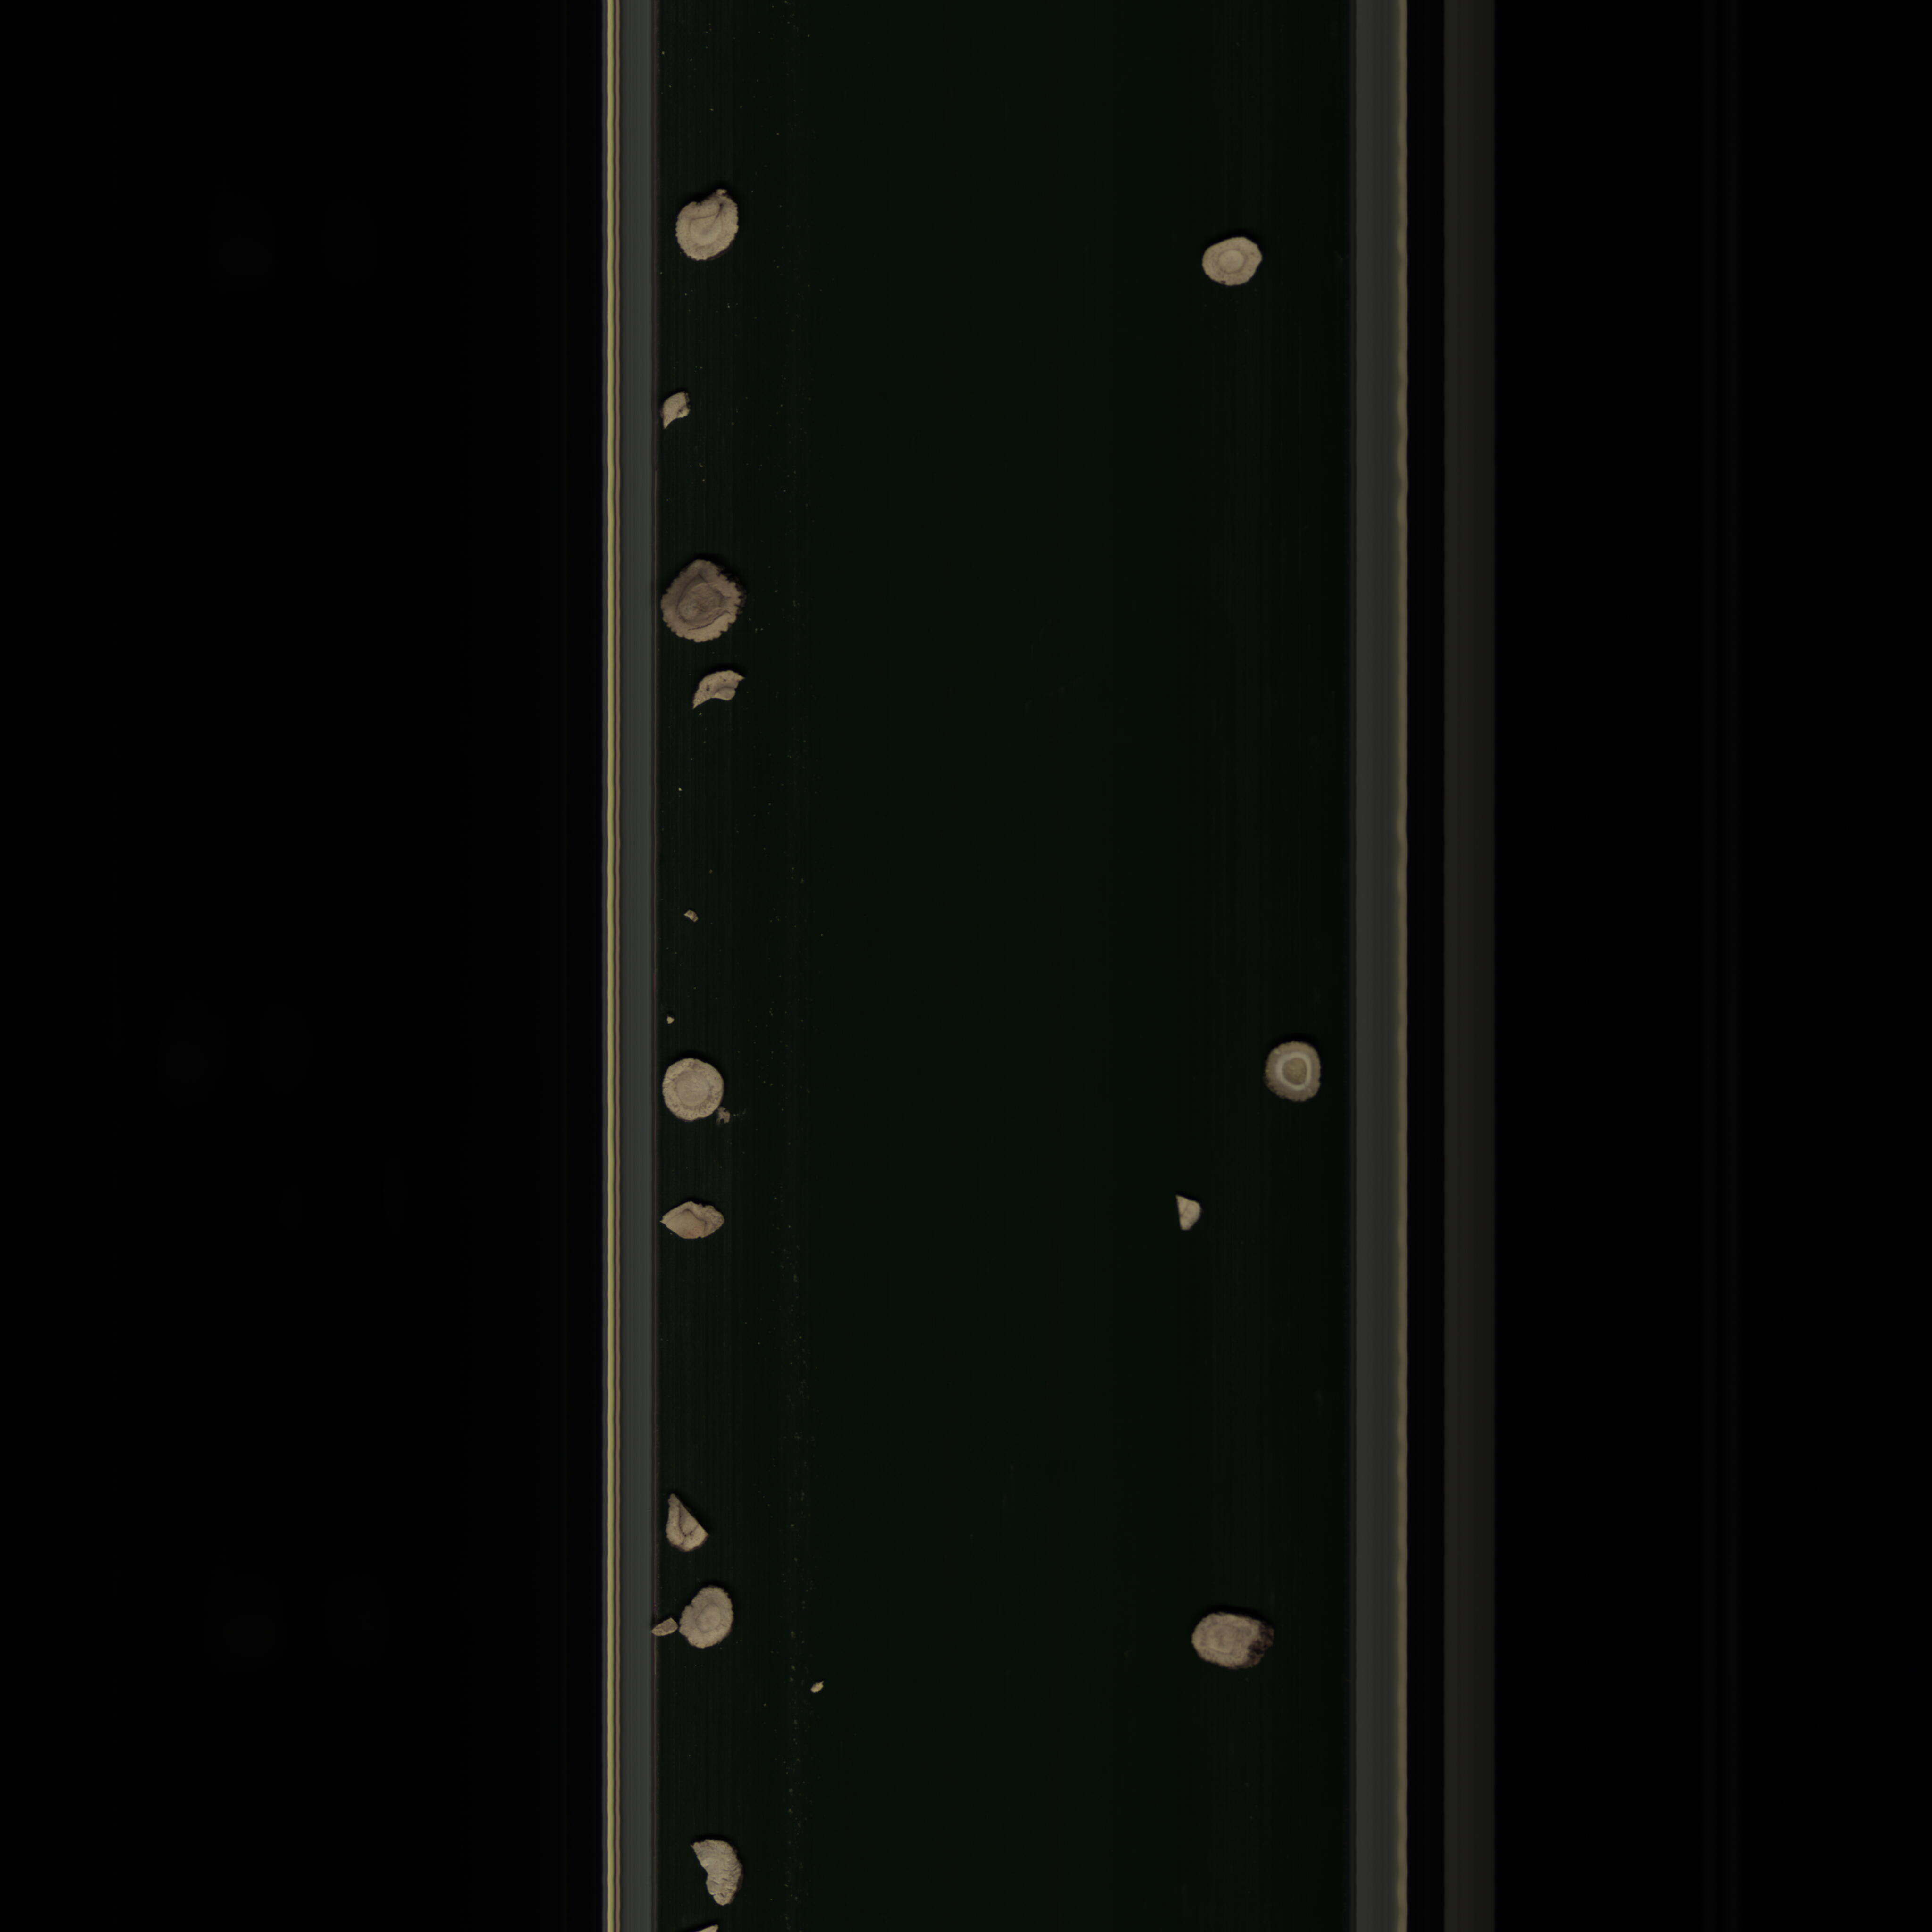debris: (658, 1198, 743, 1251), (686, 1836, 748, 1909), (662, 1483, 711, 1560), (686, 669, 761, 717), (1166, 1184, 1207, 1237), (656, 389, 701, 432)
distortion: (1180, 1605, 1295, 1684)
